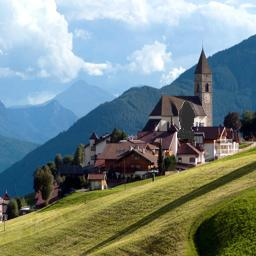Crow: (177, 101, 195, 139)
